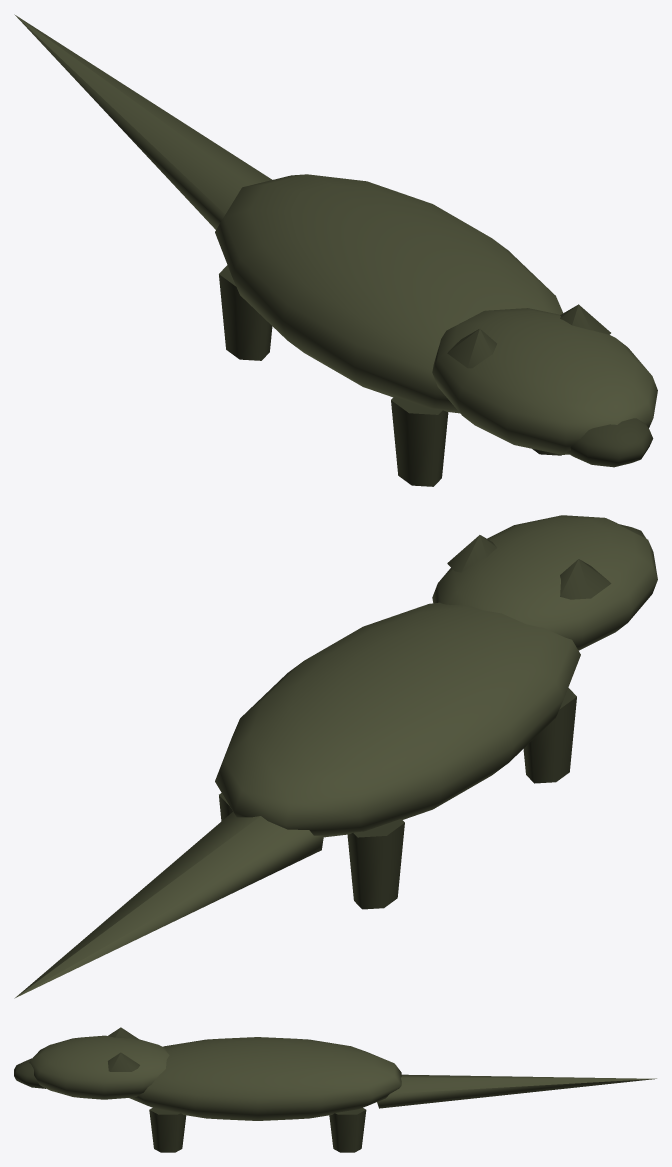
Rendered from monitor.glb.
3 renders of one model, top to bottom at view 1: azimuth 30°, elevation 25°; view 2: azimuth 150°, elevation 25°; view 3: azimuth 270°, elevation 25°, orthographic. The views are drawn at different scales.
Bounding box in the file's own units: 0.8 × 0.5857 × 3.68.
